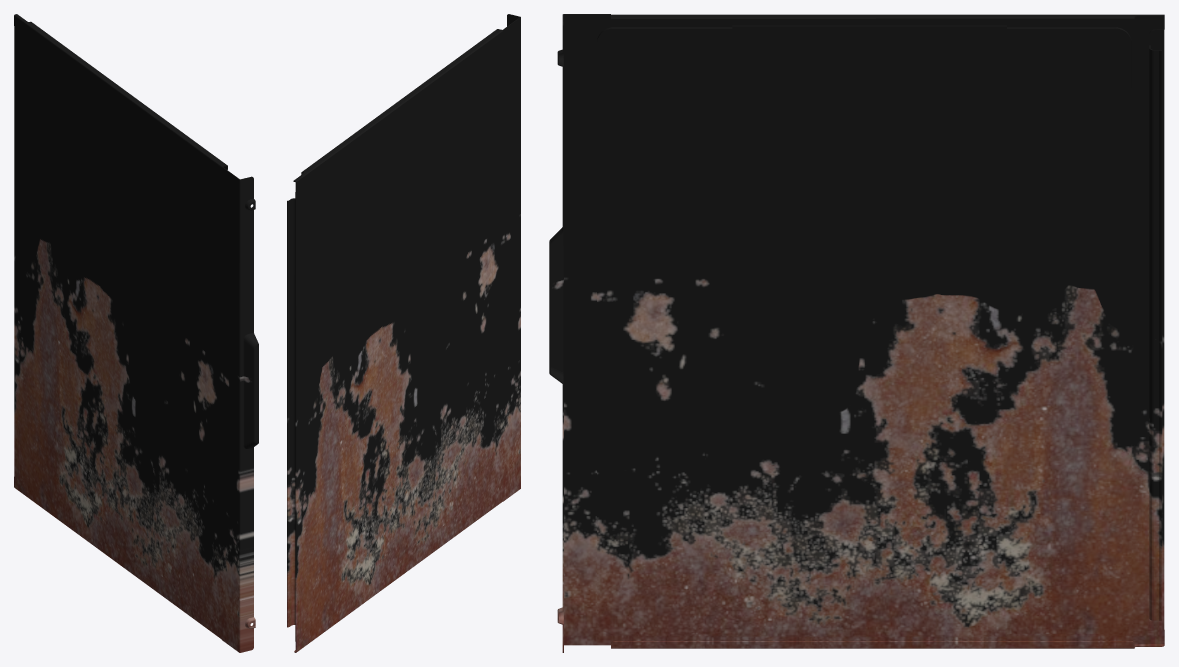
The model's file is PanelPrawyRdza.fbx.
The picture shows the model from 3 angles, left to right: view 1: azimuth 30°, elevation 25°; view 2: azimuth 150°, elevation 25°; view 3: azimuth 270°, elevation 25°; orthographic projection. The views are drawn at different scales.
Parts seen in each view (by area): view 1: PanelPrawy; view 2: PanelPrawy; view 3: PanelPrawy.
Part boxes in pixels (<box>): PanelPrawy: <box>14,14,258,652</box>; PanelPrawy: <box>287,14,520,652</box>; PanelPrawy: <box>549,14,1164,652</box>.
Size of the model in its own units: 9.09 by 291 by 258.
Materials: 1 (1 with a texture image).
